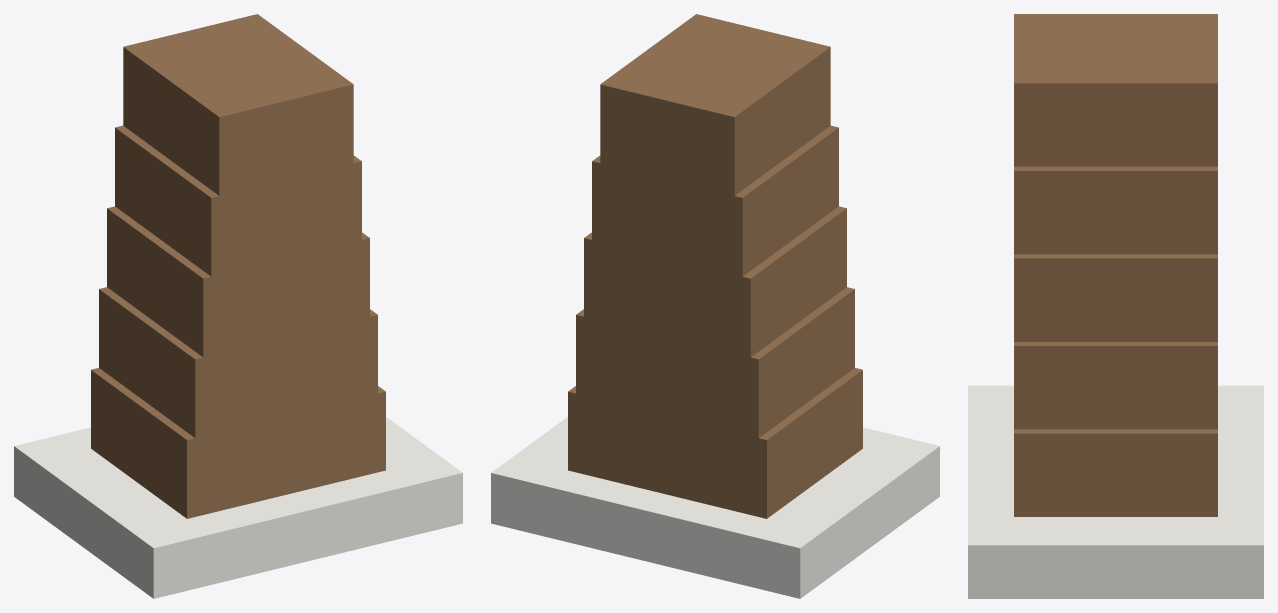
The model's file is storage_cabinet-lv5.glb.
3 renders of one model, left to right at view 1: azimuth 30°, elevation 25°; view 2: azimuth 150°, elevation 25°; view 3: azimuth 270°, elevation 25°, orthographic. The views are drawn at different scales.
Parts seen in each view (by area): view 1: Base, Level5, Level1, Level2, Level3, Level4; view 2: Base, Level5, Level1, Level2, Level3, Level4; view 3: Base, Level5, Level4, Level1, Level2, Level3.
Boxes of the visible parts, left/top/right/bottom form: Base: left=14, top=417, right=462, bottom=598; Level5: left=123, top=14, right=353, bottom=195; Level1: left=91, top=368, right=385, bottom=518; Level2: left=99, top=287, right=377, bottom=438; Level3: left=107, top=206, right=369, bottom=357; Level4: left=115, top=125, right=361, bottom=276; Base: left=491, top=417, right=939, bottom=598; Level5: left=600, top=14, right=830, bottom=195; Level1: left=568, top=368, right=862, bottom=518; Level2: left=576, top=287, right=854, bottom=438; Level3: left=584, top=206, right=846, bottom=357; Level4: left=592, top=125, right=838, bottom=276; Base: left=968, top=385, right=1263, bottom=598; Level5: left=1014, top=14, right=1217, bottom=166; Level4: left=1014, top=166, right=1217, bottom=254; Level1: left=1014, top=429, right=1217, bottom=516; Level2: left=1014, top=342, right=1217, bottom=429; Level3: left=1014, top=254, right=1217, bottom=341.
Size of the model in its own units: 1.15 by 1.58 by 0.9.
